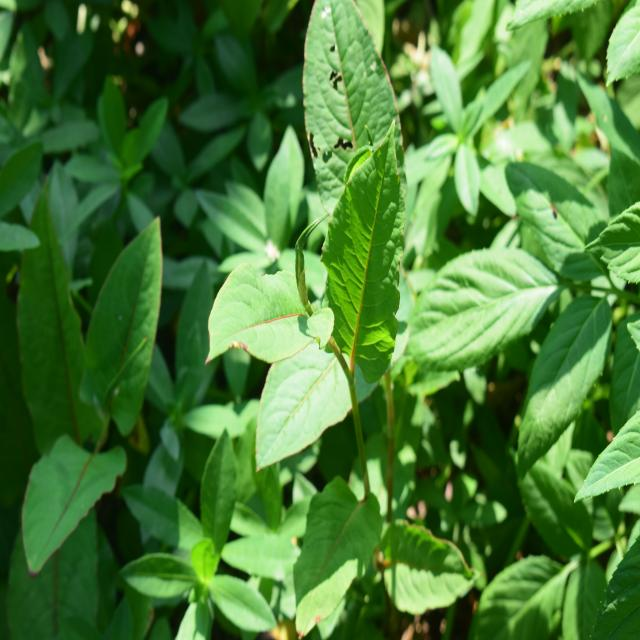Chinese_knotweed: (225, 34, 414, 487)
